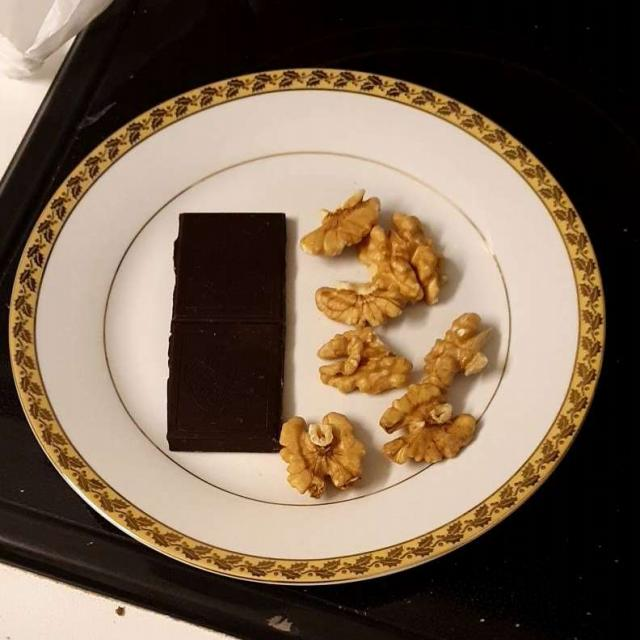dark-chocolate: (173, 216, 286, 449)
walnut: (281, 189, 489, 509)
